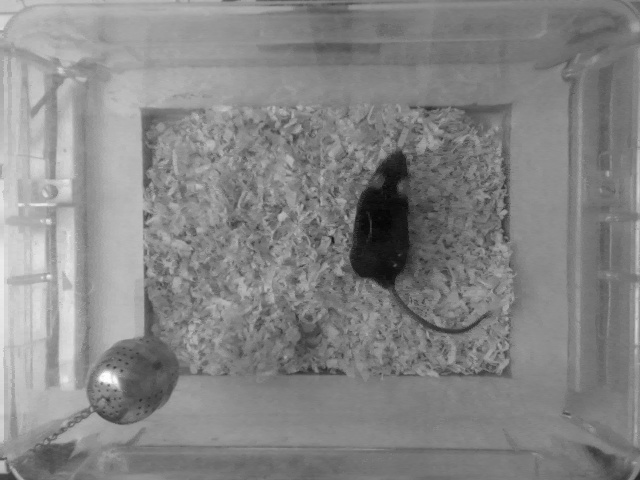mice: (344, 142, 493, 335)
